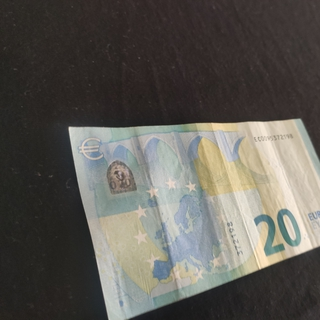20EUROBack: (67, 117, 320, 320)
